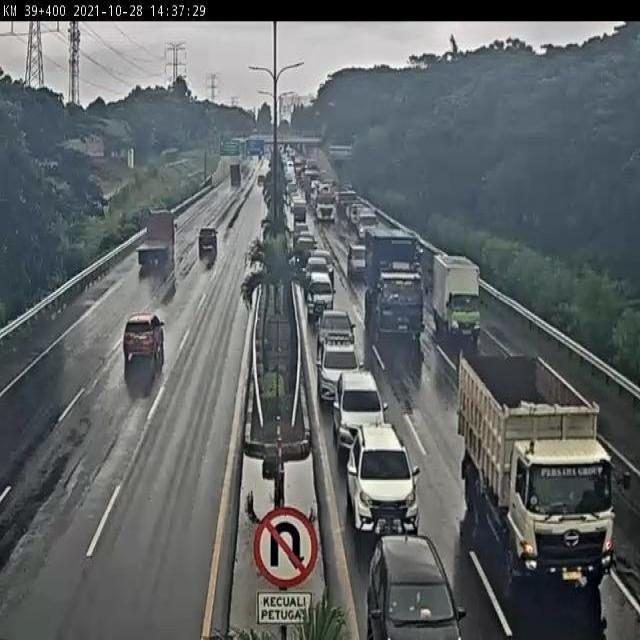big truck: (459, 352, 631, 588), (366, 228, 425, 347), (138, 212, 177, 273)
car: (365, 532, 465, 640), (346, 423, 420, 536), (333, 368, 384, 453), (318, 343, 364, 405), (122, 316, 166, 365), (317, 312, 355, 359), (304, 270, 333, 318), (193, 228, 219, 257)
small truck: (431, 256, 481, 344)
